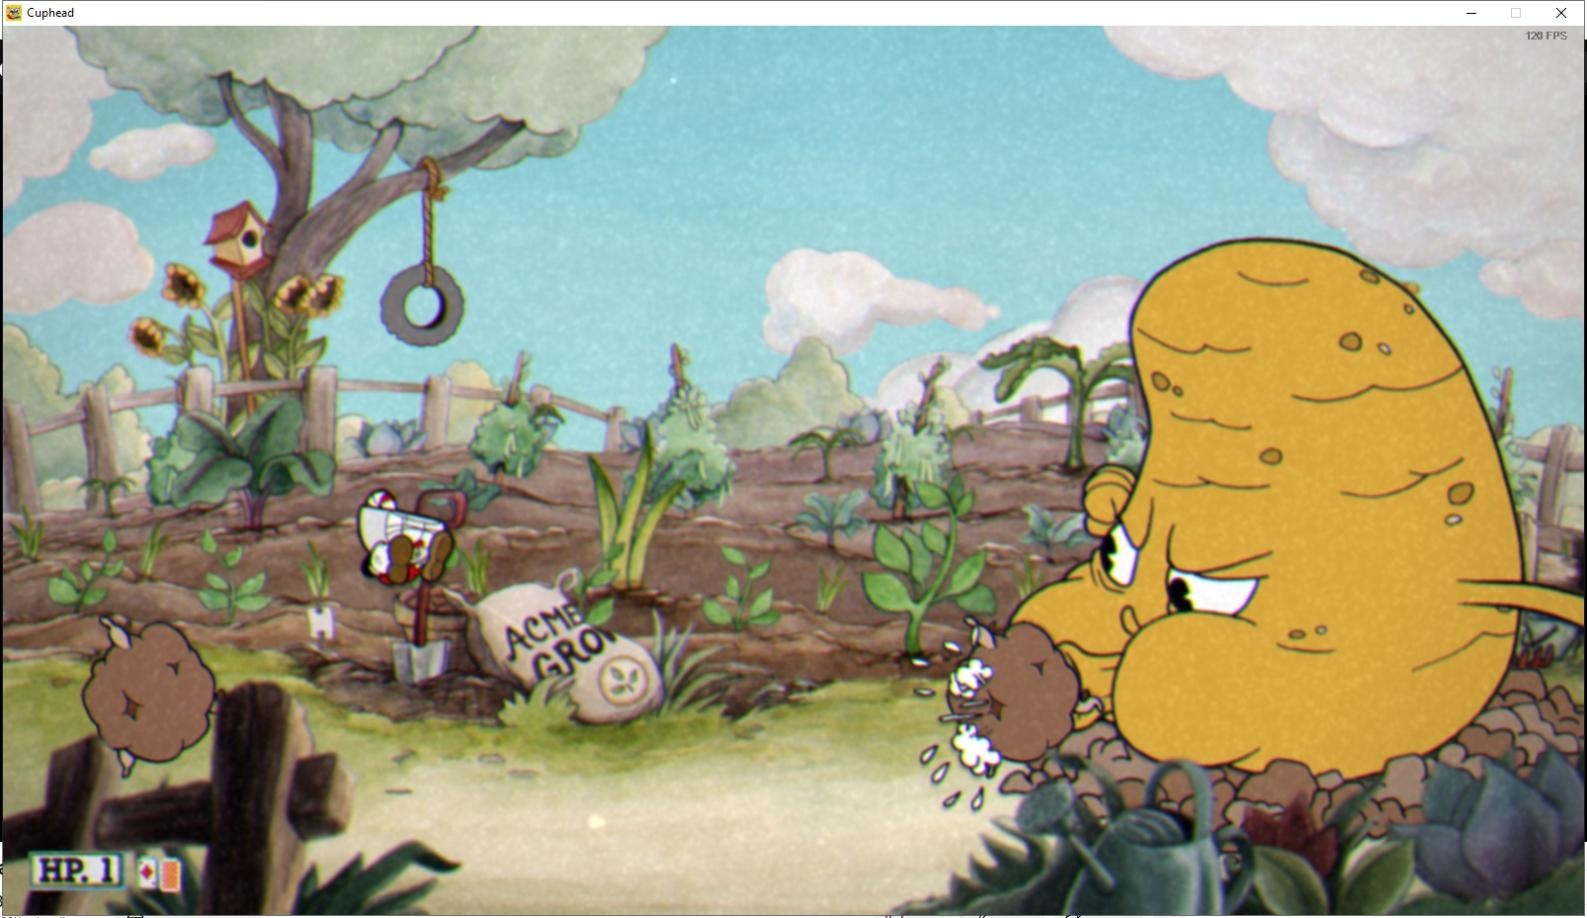dirt: (935, 623, 1072, 776), (82, 611, 218, 762)
hp1: (91, 849, 123, 893)
player: (361, 483, 451, 593)
potato_boss: (1041, 231, 1525, 830)
